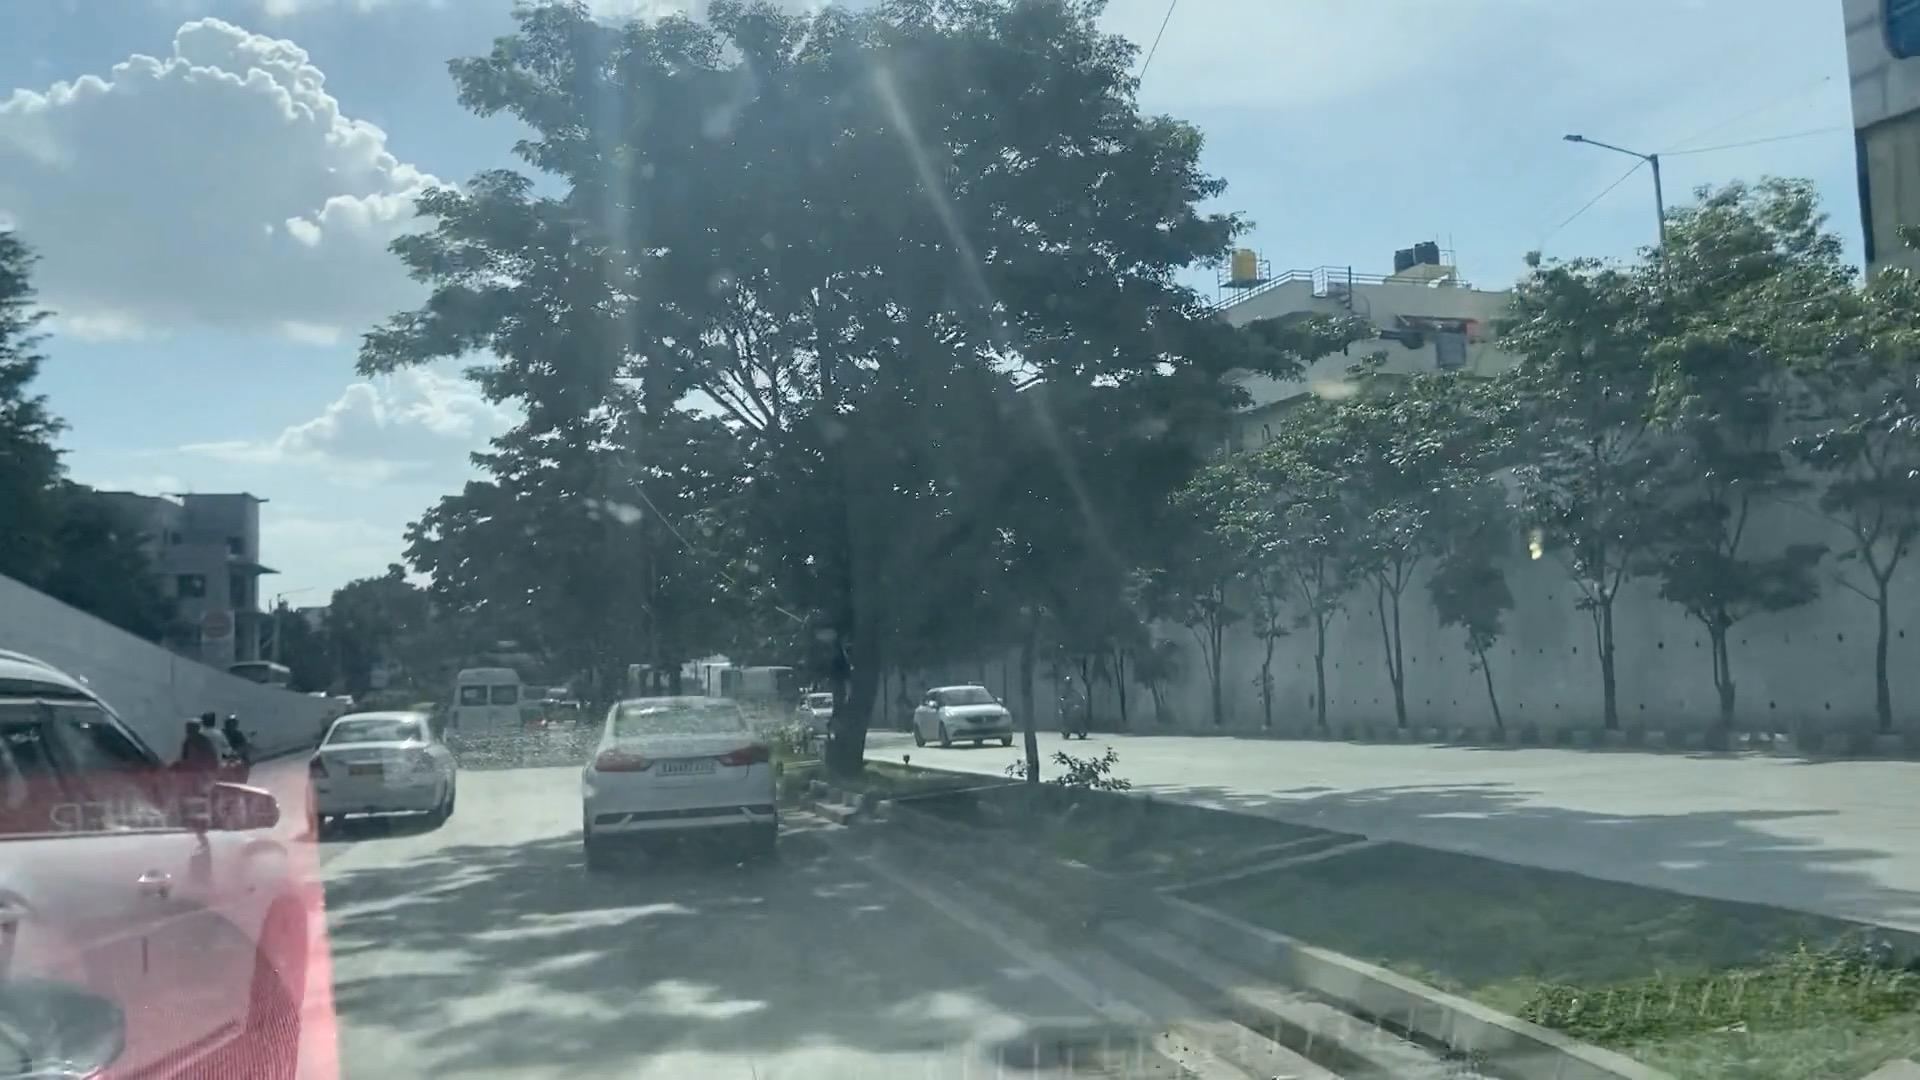LMV: (590, 698, 780, 837), (310, 715, 448, 812)
